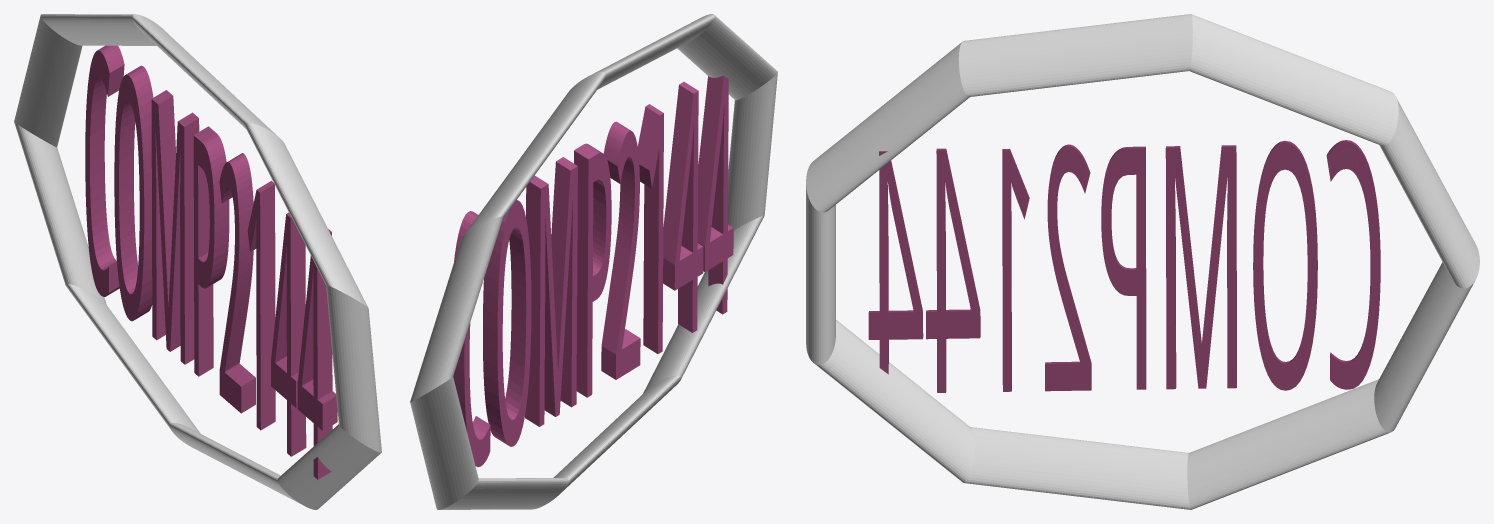
Rendered from title.glb.
3 views of the same model, side by side, from view 1: azimuth 30°, elevation 25°; view 2: azimuth 150°, elevation 25°; view 3: azimuth 270°, elevation 25° (orthographic).
Parts seen in each view (by area): view 1: Mesh_Mesh_head_geo.001_lambert2SG.001; view 2: Mesh_Mesh_head_geo.001_lambert2SG.001; view 3: Mesh_Mesh_head_geo.001_lambert2SG.001.
Boxes of the visible parts, box(x1,y1,x2,y2) form: Mesh_Mesh_head_geo.001_lambert2SG.001: box(14, 14, 381, 509); Mesh_Mesh_head_geo.001_lambert2SG.001: box(410, 14, 777, 509); Mesh_Mesh_head_geo.001_lambert2SG.001: box(806, 14, 1479, 509).
Size of the model in its own units: 0.00496 by 0.0277 by 0.0369.
